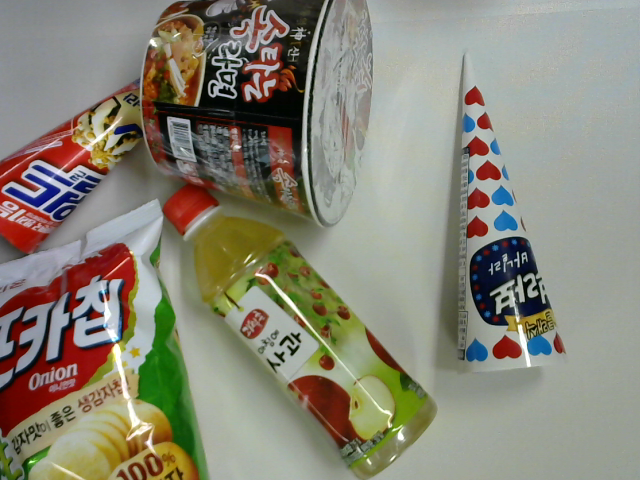Bravo_Cone_(Banila)_CVS: (452, 48, 570, 376)
HeJangsock: (138, 1, 376, 228)
Morning_Apple_500ml: (162, 182, 438, 479)
Pocachip_Onion: (1, 199, 216, 480)
World_Cone_Banila: (1, 75, 151, 258)
